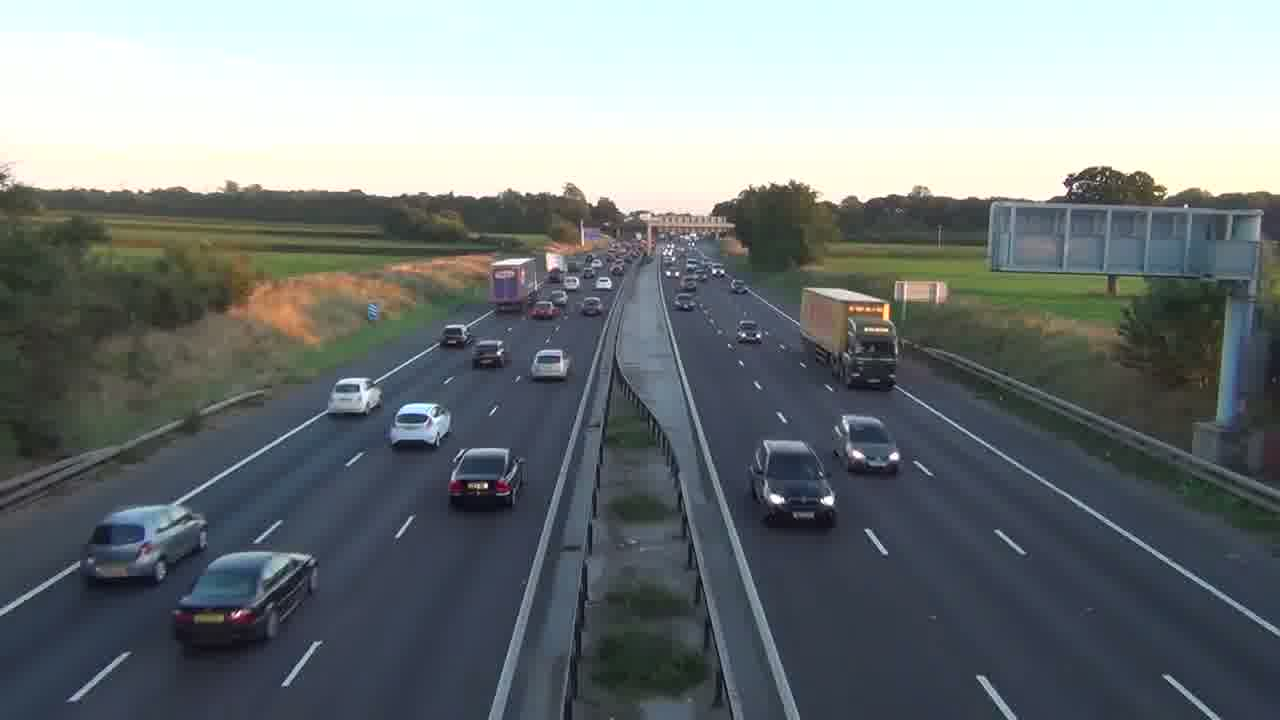car: (171, 548, 320, 647), (79, 503, 209, 584), (747, 438, 838, 527), (448, 447, 526, 510), (831, 413, 902, 475), (387, 401, 452, 449), (327, 376, 384, 416), (529, 347, 572, 382), (472, 338, 508, 369), (441, 324, 468, 347)
truck: (799, 286, 899, 390)
